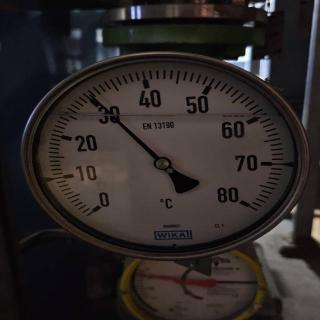gauge: (1, 46, 317, 266), (214, 186, 262, 222), (79, 188, 117, 224), (153, 156, 171, 172), (85, 90, 99, 103)
